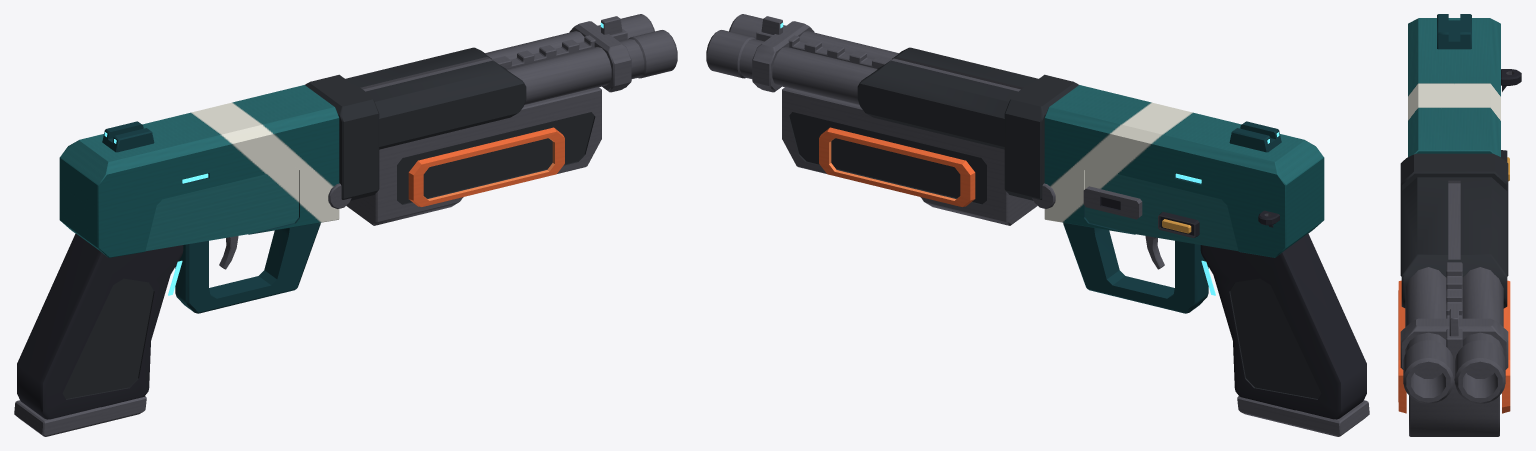
File: Shorty_Breakwater_v01.fbx
3 renders of one model, left to right at view 1: azimuth 30°, elevation 25°; view 2: azimuth 150°, elevation 25°; view 3: azimuth 270°, elevation 25°, orthographic. The views are drawn at different scales.
Visible parts, largest first — view 1: Shorty_Frame, Shorty_Barrels, Shorty_Grip, Breakwater_ForeBumper_R; view 2: Shorty_Barrels, Shorty_Frame, Shorty_Grip, Breakwater_ForeBumper_L, Shorty_BreechLatch; view 3: Shorty_Barrels, Shorty_Frame, Breakwater_ForeBumper_R, Breakwater_ForeBumper_L, Shorty_CharmLoop.
Part boxes in pixels (bbox=[...]): Shorty_Frame: bbox=[59, 85, 351, 313]; Shorty_Barrels: bbox=[305, 14, 677, 225]; Shorty_Grip: bbox=[14, 233, 183, 436]; Breakwater_ForeBumper_R: bbox=[408, 127, 564, 206]; Shorty_Barrels: bbox=[706, 14, 1078, 225]; Shorty_Frame: bbox=[1032, 85, 1324, 313]; Shorty_Grip: bbox=[1200, 233, 1369, 436]; Breakwater_ForeBumper_L: bbox=[819, 127, 975, 206]; Shorty_BreechLatch: bbox=[1083, 186, 1142, 219]; Shorty_Barrels: bbox=[1400, 153, 1508, 436]; Shorty_Frame: bbox=[1408, 14, 1500, 156]; Breakwater_ForeBumper_R: bbox=[1398, 280, 1406, 413]; Breakwater_ForeBumper_L: bbox=[1502, 280, 1510, 413]; Shorty_CharmLoop: bbox=[1501, 69, 1521, 91].
Size of the model in its own units: 168 by 70 by 23.75.
12 materials, 9 textured.
